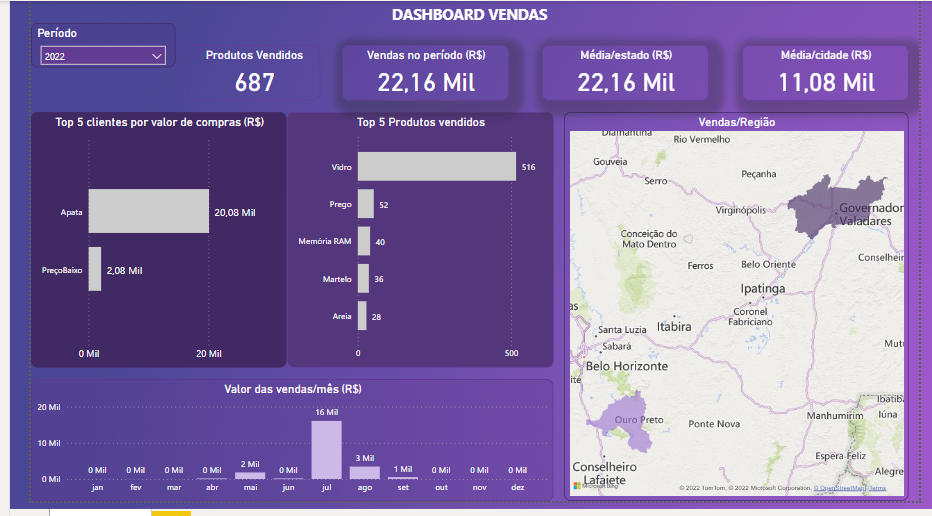

The page's visual inventory and layout, read from the dashboard file:
{"tool":"powerbi","page":{"name":"Visão Geral","canvas":[1280,720],"ordinal":0},"visuals":[{"type":"card","title":"Produtos Vendidos","fields":{"Values":["_Medidas.QTD_Produtos"]},"box":[224,64,192,80],"z":0},{"type":"barChart","title":"Top 5 Produtos vendidos","fields":{"Category":["DIM_PRODUTOS.Descricao"],"Y":["_Medidas.Quantidade produtos vendidos"]},"box":[368,160,384,368],"z":1000},{"type":"card","title":"Vendas no período (R$)","fields":{"Values":["_Medidas.Vendas Periodo Formatada"]},"box":[448,64,240,80],"z":2000},{"type":"slicer","title":"Período","fields":{"Values":["DIM_CALENDARIO.Ano","DIM_CALENDARIO.MesAbrev"]},"box":[0,32,208,64],"z":3000},{"type":"filledMap","title":"Vendas/Região","fields":{"Category":["DIM_LOCALIZACAO.Estado","DIM_LOCALIZACAO.Cidade"]},"box":[768,160,496,560],"z":4000},{"type":"barChart","title":"Top 5 clientes por  valor de compras (R$)","fields":{"Category":["DIM_CLIENTES.Nome"],"Y":["_Medidas.Vendas total"]},"box":[0,160,368,368],"z":5000},{"type":"clusteredColumnChart","title":"Valor das vendas/mês (R$)","fields":{"Category":["DIM_CALENDARIO.MesAbrev"],"Y":["_Medidas.Vendas"]},"box":[0,544,752,176],"z":6000},{"type":"card","title":"Média/estado (R$)","fields":{"Values":["_Medidas.Media estado formatada"]},"box":[736,64,240,80],"z":8000},{"type":"card","title":"Média/cidade (R$)","fields":{"Values":["_Medidas.Media cidade formatada"]},"box":[1024,64,240,80],"z":9000},{"type":"textbox","box":[320,0,624,48],"z":10000},{"type":"actionButton","box":[224,0,1056,160],"z":11000}]}

Visuals, with their boxes in screenshot pixels (x1, y1, x2, y2), scaled from the page's 1280x720 canvas onto the 932x516 screenshot:
"Produtos Vendidos" card: BBox(163, 46, 303, 103)
"Top 5 Produtos vendidos" barChart: BBox(268, 115, 548, 378)
"Vendas no período (R$)" card: BBox(326, 46, 501, 103)
"Período" slicer: BBox(0, 23, 151, 69)
"Vendas/Região" filledMap: BBox(559, 115, 920, 515)
"Top 5 clientes por  valor de compras (R$)" barChart: BBox(0, 115, 268, 378)
"Valor das vendas/mês (R$)" clusteredColumnChart: BBox(0, 390, 548, 515)
"Média/estado (R$)" card: BBox(536, 46, 711, 103)
"Média/cidade (R$)" card: BBox(746, 46, 920, 103)
textbox: BBox(233, 0, 687, 34)
actionButton: BBox(163, 0, 931, 115)
